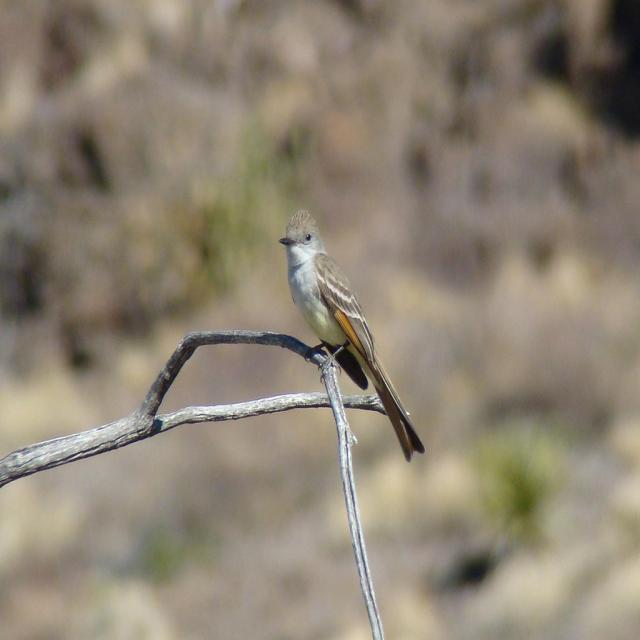bird: (273, 207, 428, 458)
